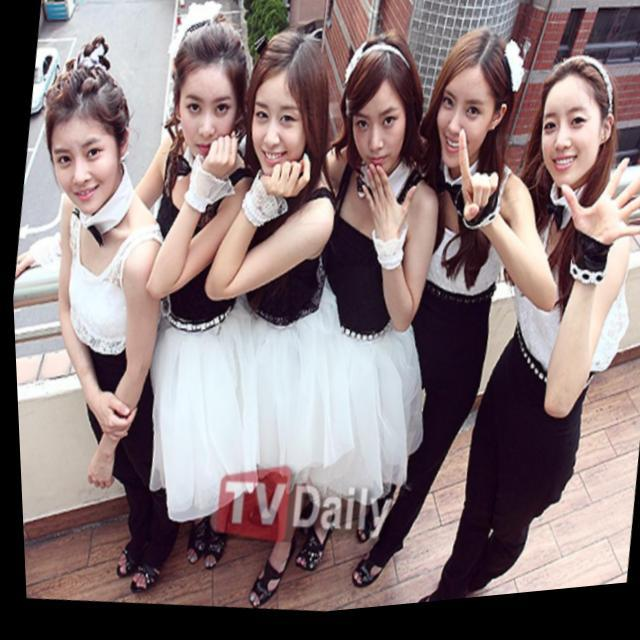Nonhelmet: (425, 19, 527, 187), (241, 23, 343, 190), (333, 22, 432, 190), (38, 50, 132, 217), (529, 45, 626, 194), (166, 13, 251, 168)
